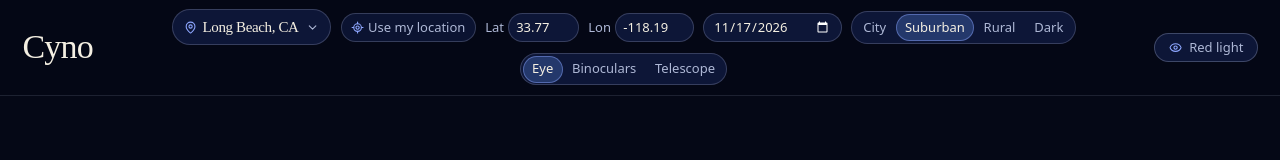
Test: ControlsBar › geolocation › ignores a position that arrives after a coordinate edit
Click the button "Use my location": (408, 27) left=341, top=13, right=476, bottom=42
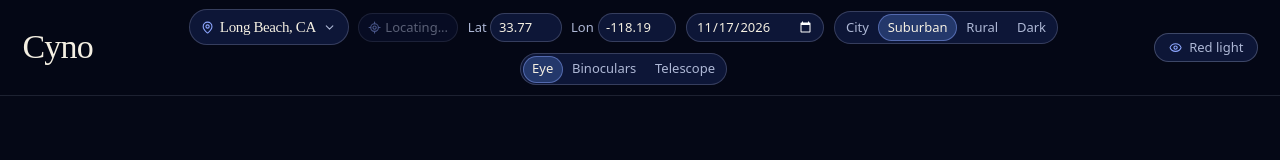
Replace the text in the number field named "Latitude" with "40": (526, 27) left=490, top=13, right=562, bottom=42
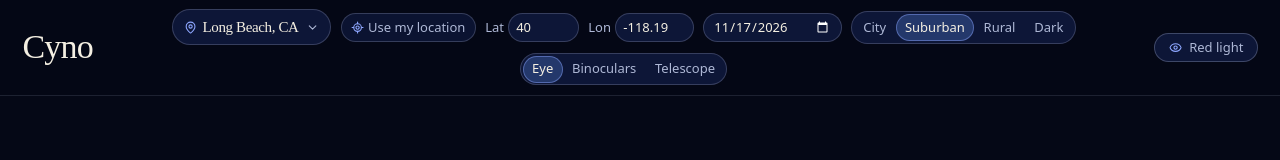
Result: the button "Use my location" is enabled at left=341, top=13, right=476, bottom=42
